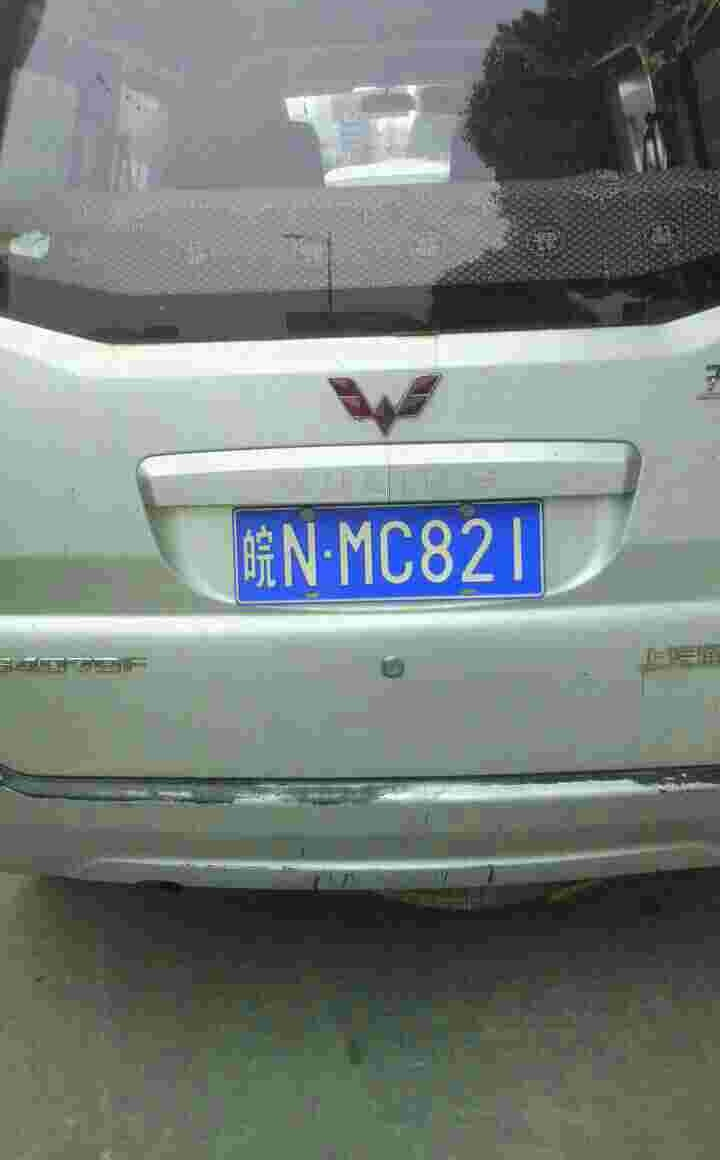car: (236, 502, 551, 602)
